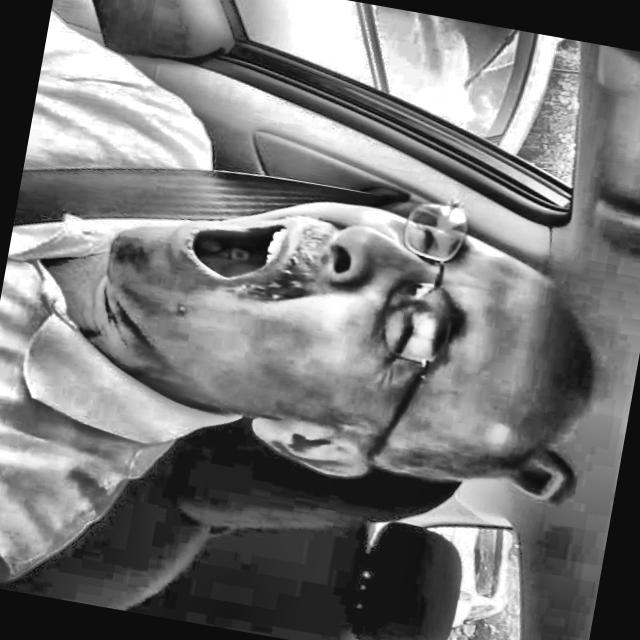closed_eyes: (360, 296, 435, 380), (405, 211, 461, 265)
open_mouth: (165, 197, 310, 310)
